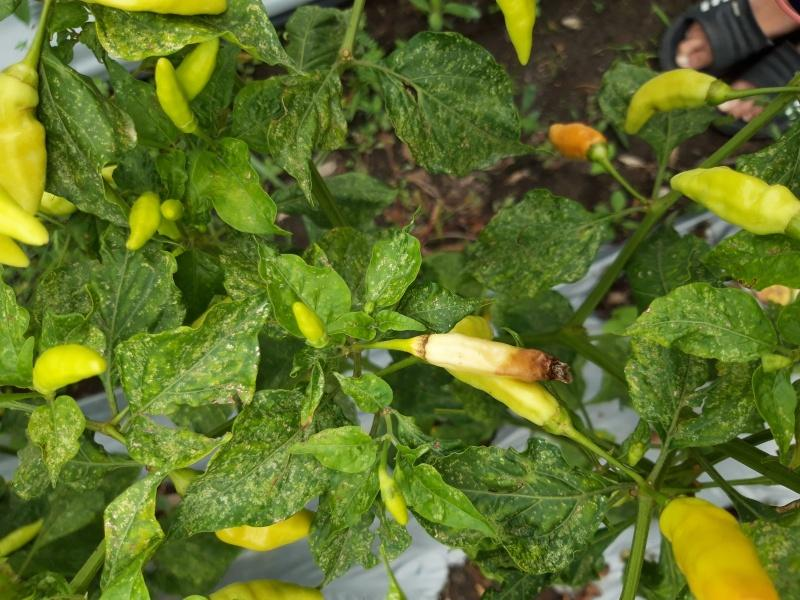antraknosa: (420, 334, 573, 380)
cabai_normal: (661, 498, 779, 597), (670, 166, 800, 236), (445, 366, 562, 427), (1, 72, 46, 213), (628, 70, 717, 133), (215, 507, 317, 550), (35, 343, 106, 389), (175, 38, 220, 99), (1, 191, 50, 245), (500, 1, 538, 66), (156, 58, 193, 123), (547, 123, 606, 159), (127, 192, 160, 251), (376, 466, 405, 521), (292, 303, 326, 339)
